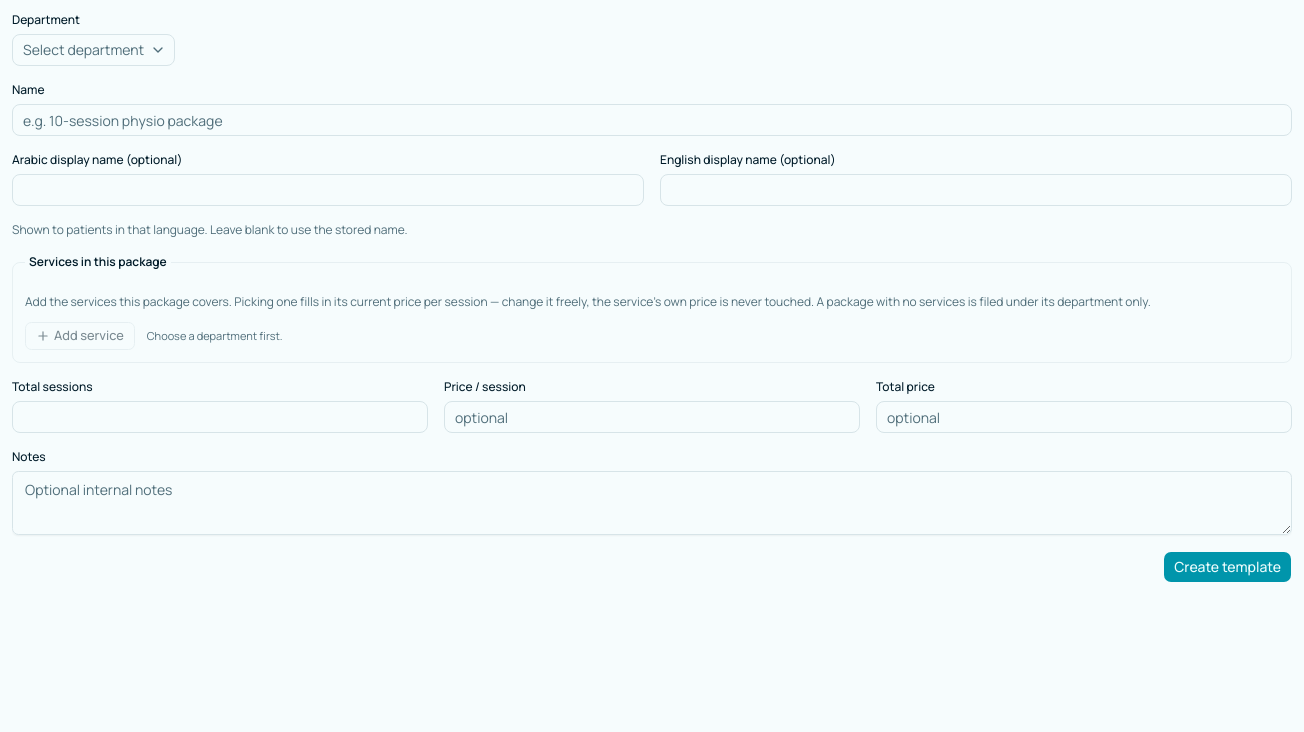
Test case: a line's price is seeded from the service and then belongs to the package › fills the line's price from the service's current catalogue price
Click the dropdown labelled "Select department". click: point(94, 50)
box: [12,34,175,66]
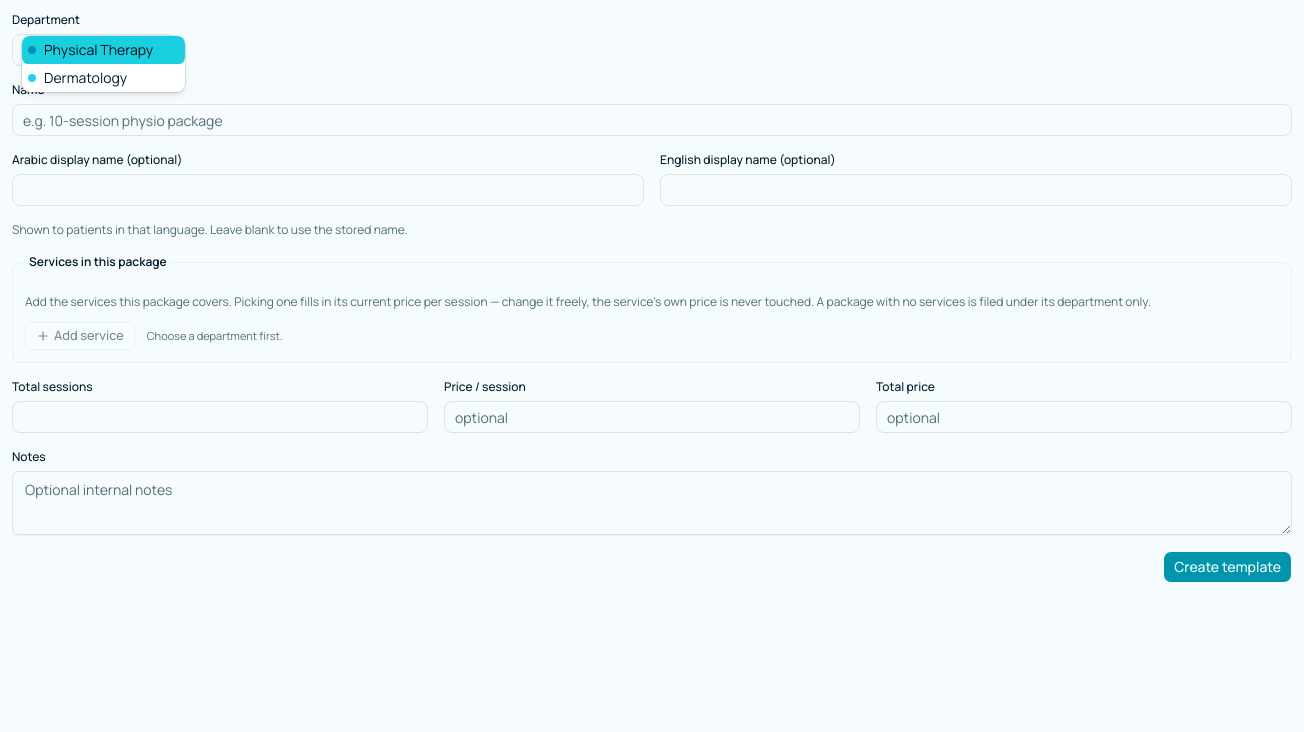
Click the option "Physical Therapy". click: point(104, 50)
box: [22,36,185,64]
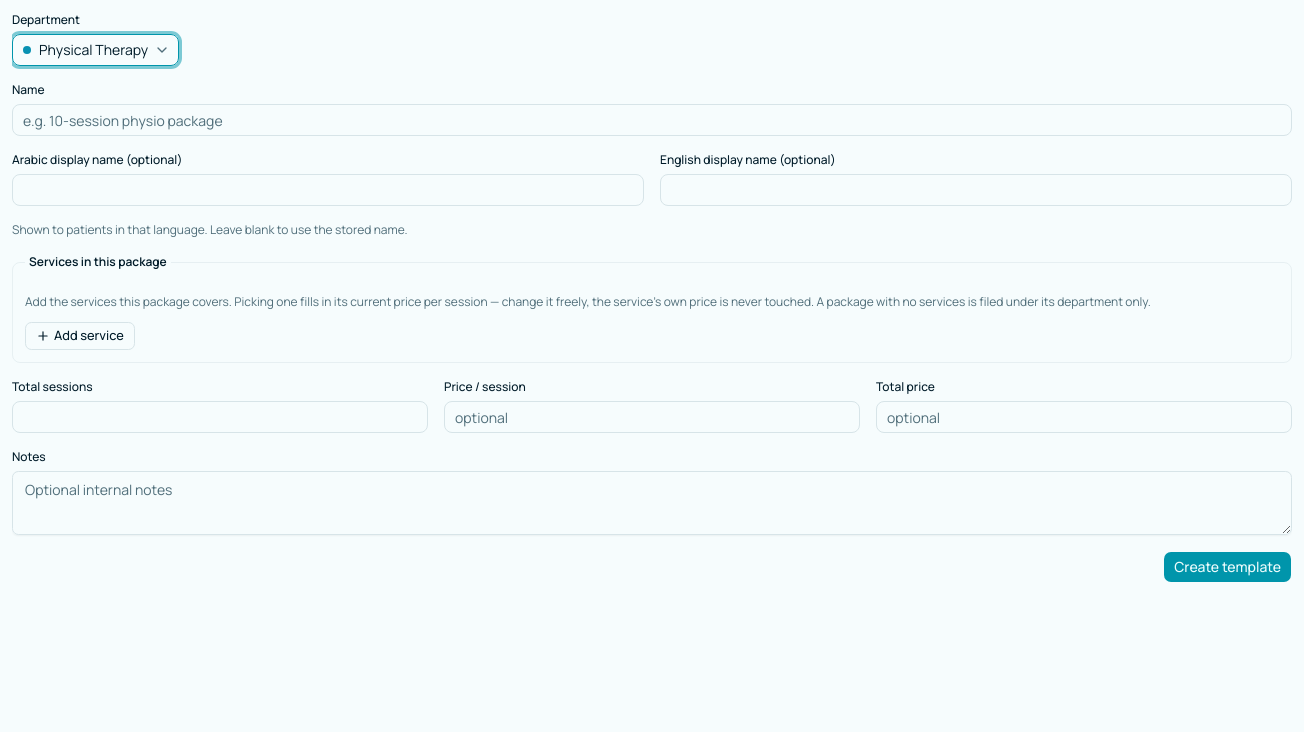
Click the button "Add service". click: point(80, 336)
box: [25,322,135,350]
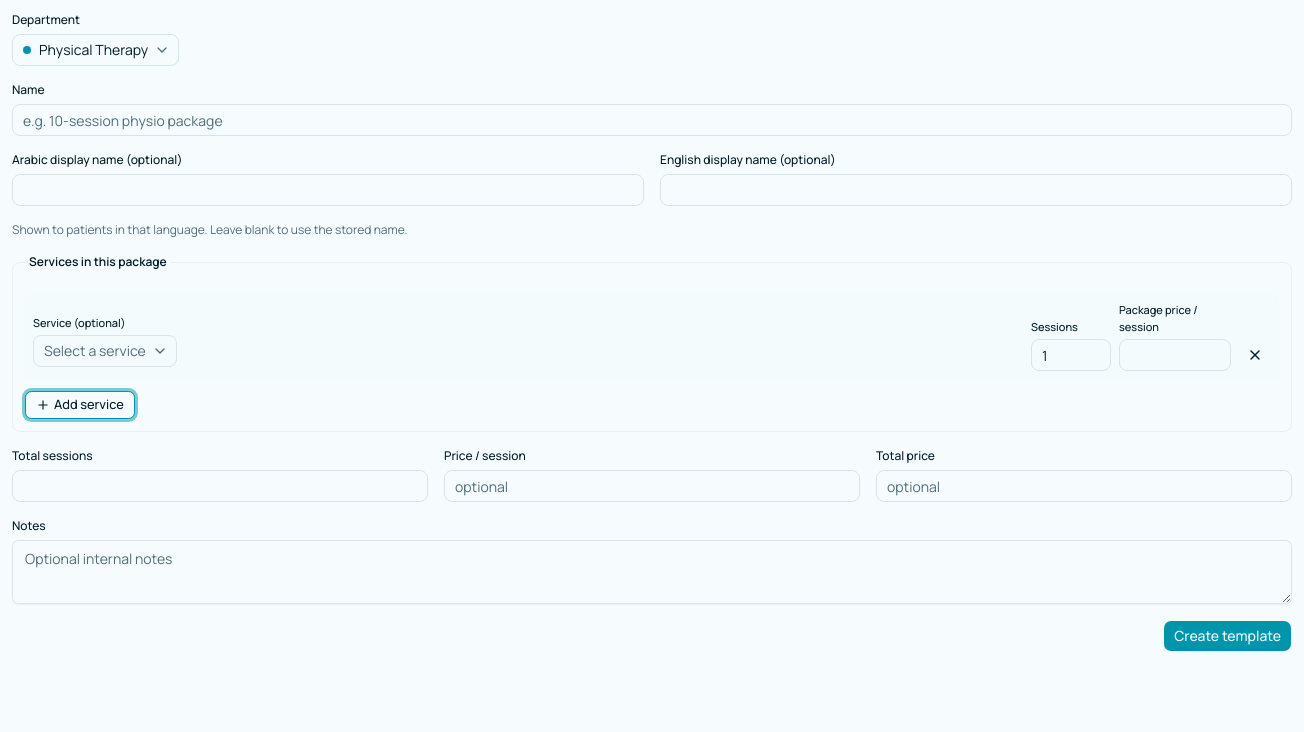
Click the dropdown named "Service (optional)". click: point(105, 351)
box: [33,335,177,367]
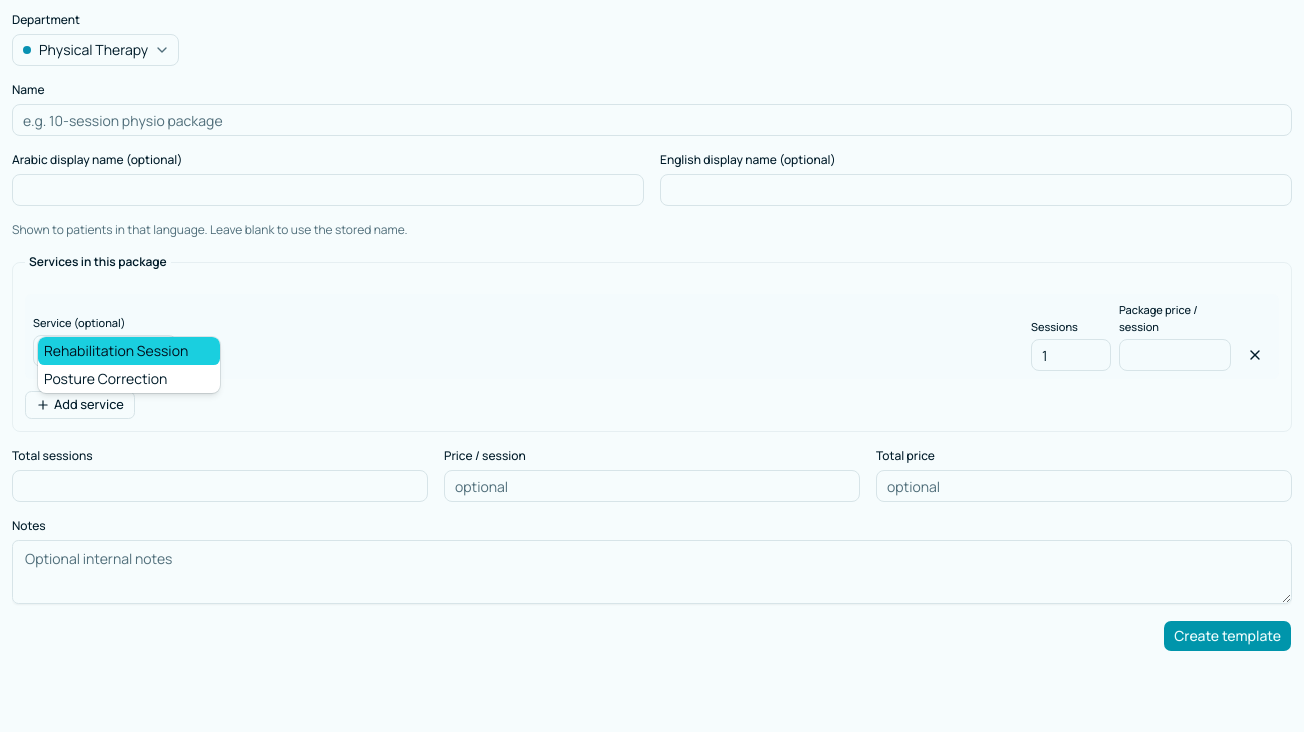
Click the option "Rehabilitation Session". click: point(129, 351)
box: [38,337,220,365]
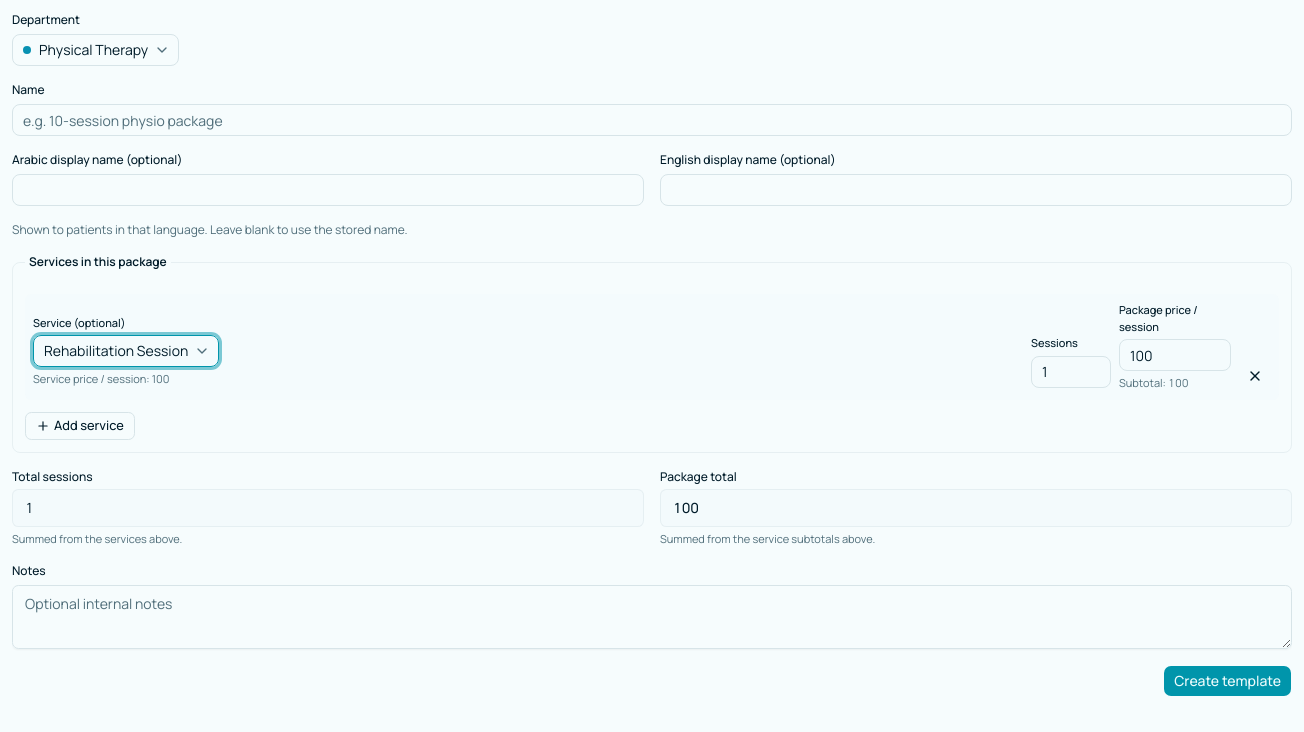
Now the number field named "Package price / session" holds "100", box [1119,339,1231,371]
